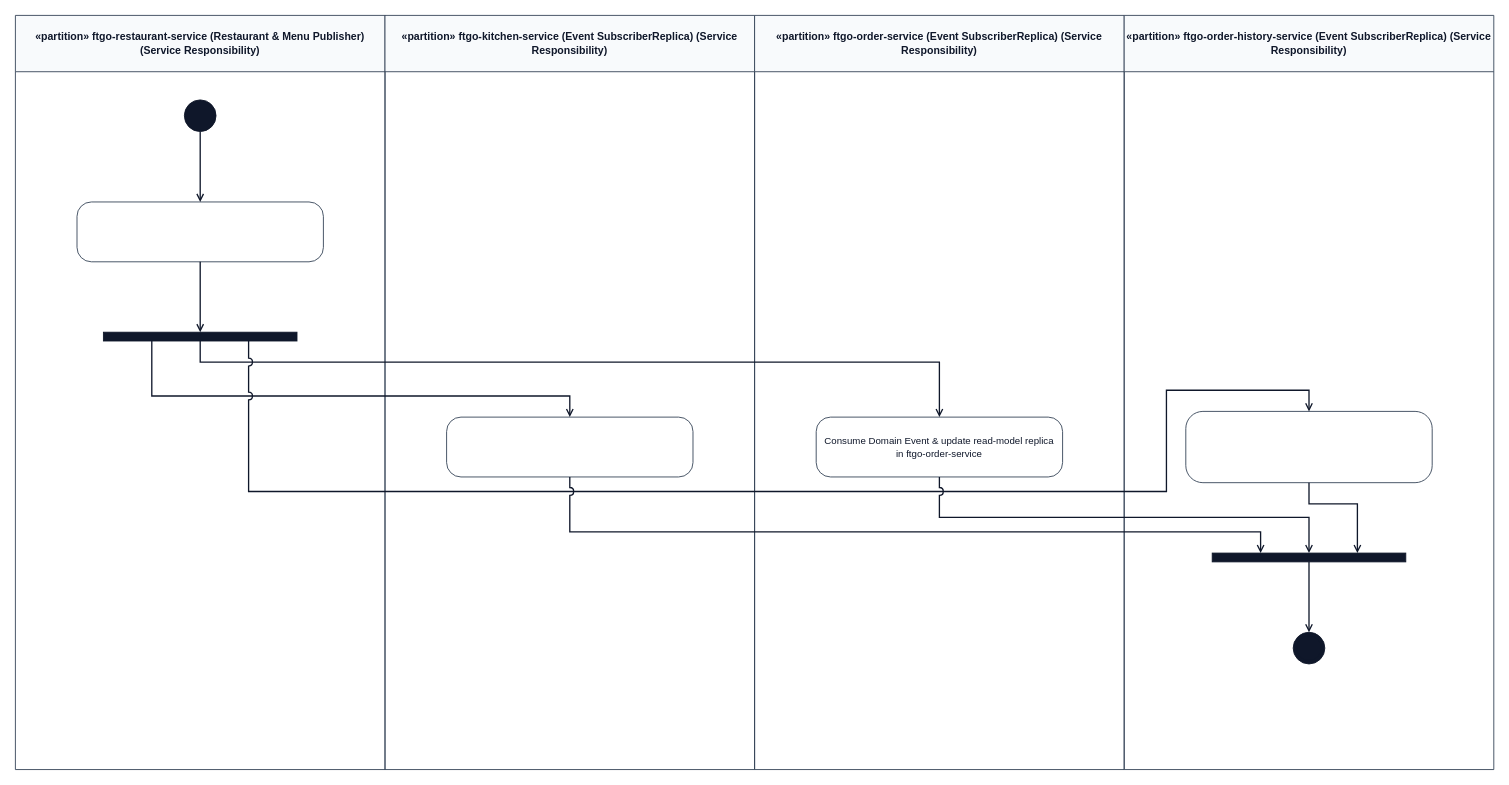
Image size: 1509x785. Some labels were removed from this diagram. The centre of each missing label's shape, as x and y in pixels:
Consume Domain Event & update read-model replica in ftgo-kitchen-service: pixel 569 446
Consume Domain Event & update read-model replica in ftgo-order-history-service: pixel 1308 447
Update Restaurant / Menu aggregate & publish Domain Event via Kafka: pixel 199 231
